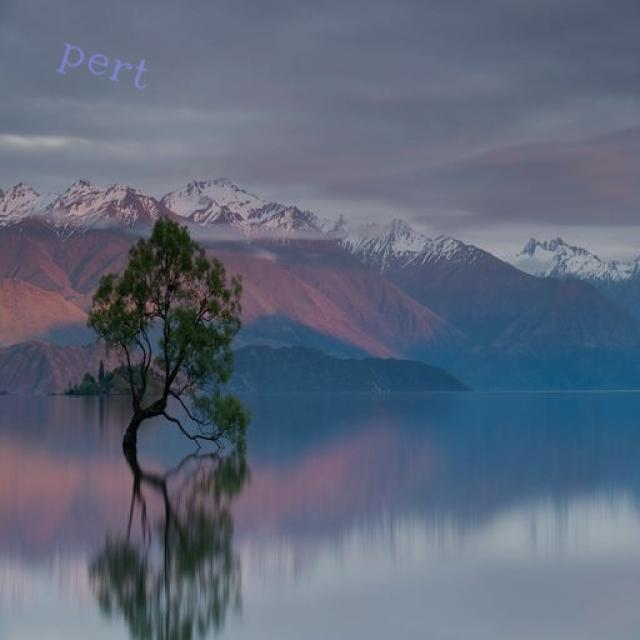watermark: (46, 30, 176, 97)
